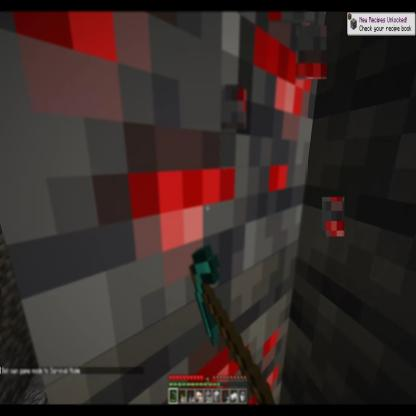redstone ore: (2, 6, 308, 390), (76, 285, 310, 416)
